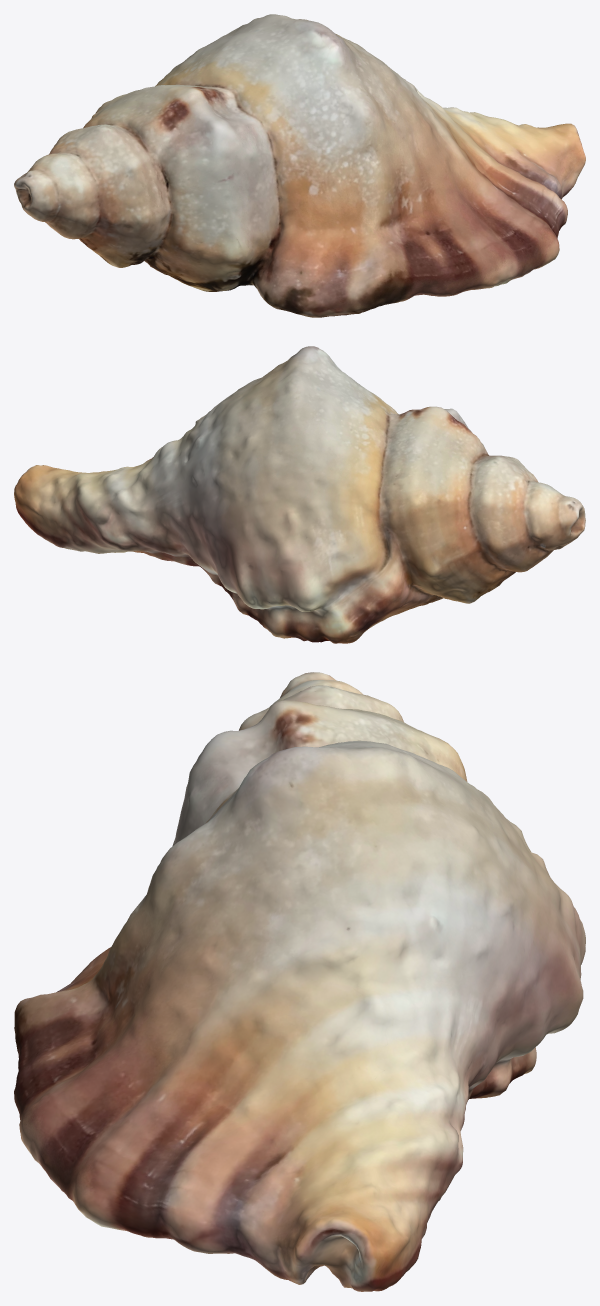
Rendered from conch.fbx.
3 views of the same model, one above another, from view 1: azimuth 30°, elevation 25°; view 2: azimuth 150°, elevation 25°; view 3: azimuth 270°, elevation 25° (orthographic). The views are drawn at different scales.
Parts seen in each view (by area): view 1: seashell; view 2: seashell; view 3: seashell.
Boxes of the visible parts, x1,y1,x2,y2 form: seashell: (14,14,585,317); seashell: (14,346,585,643); seashell: (14,672,585,1291).
Size of the model in its own units: 30.42 by 12.11 by 17.34.
Materials: 1 (1 with a texture image).
